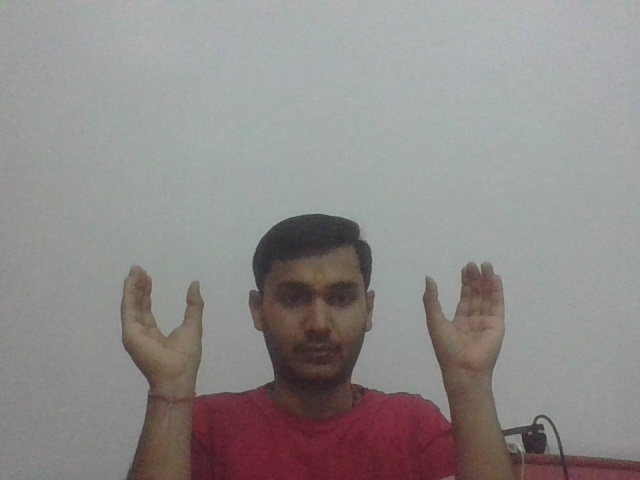U: (416, 254, 507, 377), (114, 263, 208, 380)
